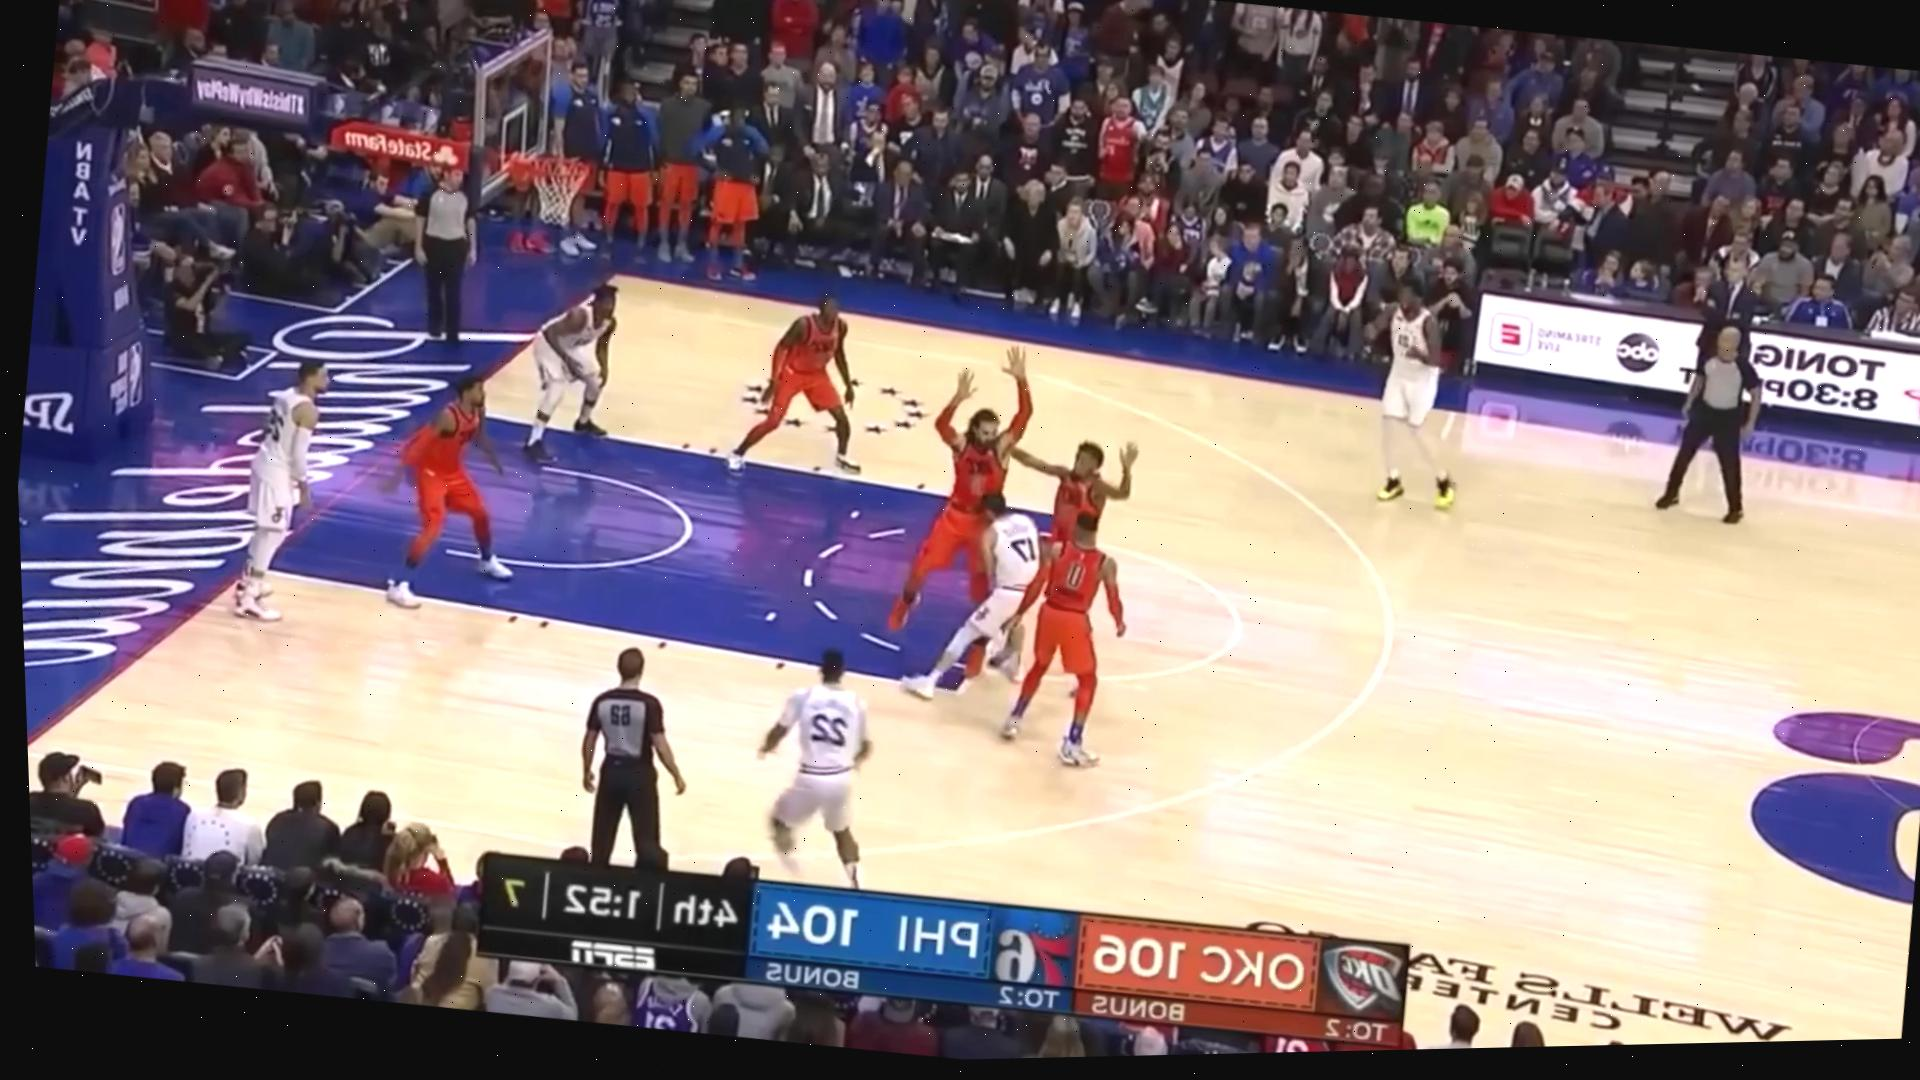no_foul: (835, 385, 1151, 728)
